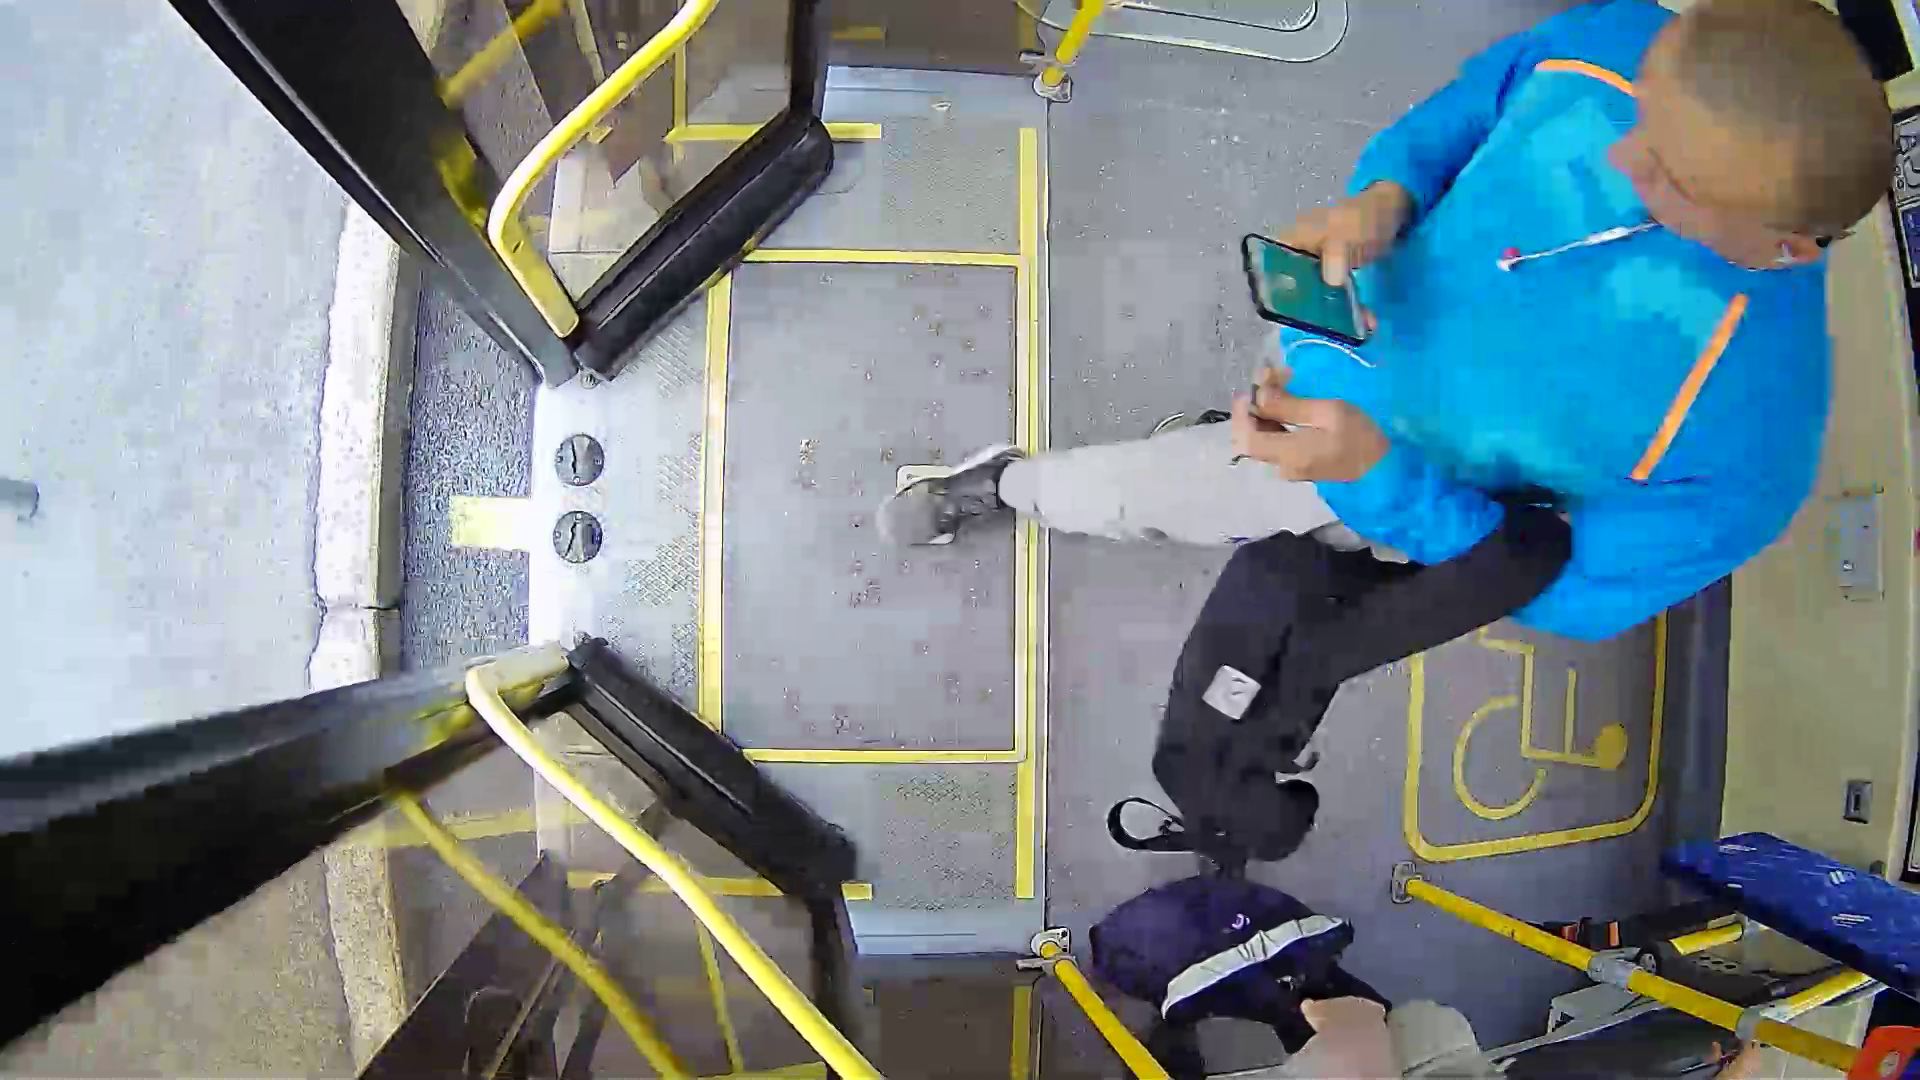person: (1013, 10, 1887, 687)
